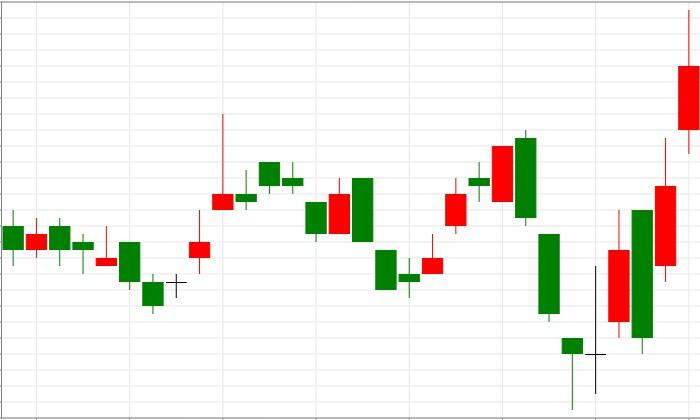bearish_engulfing_fall: (399, 128, 536, 298)
morning_star_rise: (515, 128, 630, 410)
